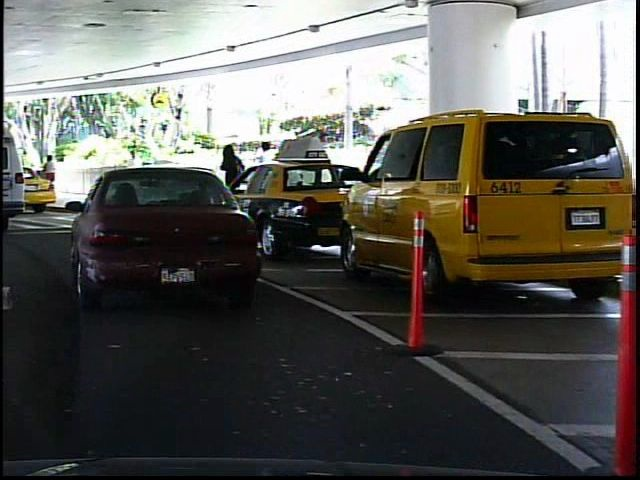person: (216, 139, 250, 213), (254, 137, 281, 212), (121, 144, 146, 204), (40, 151, 62, 198)
